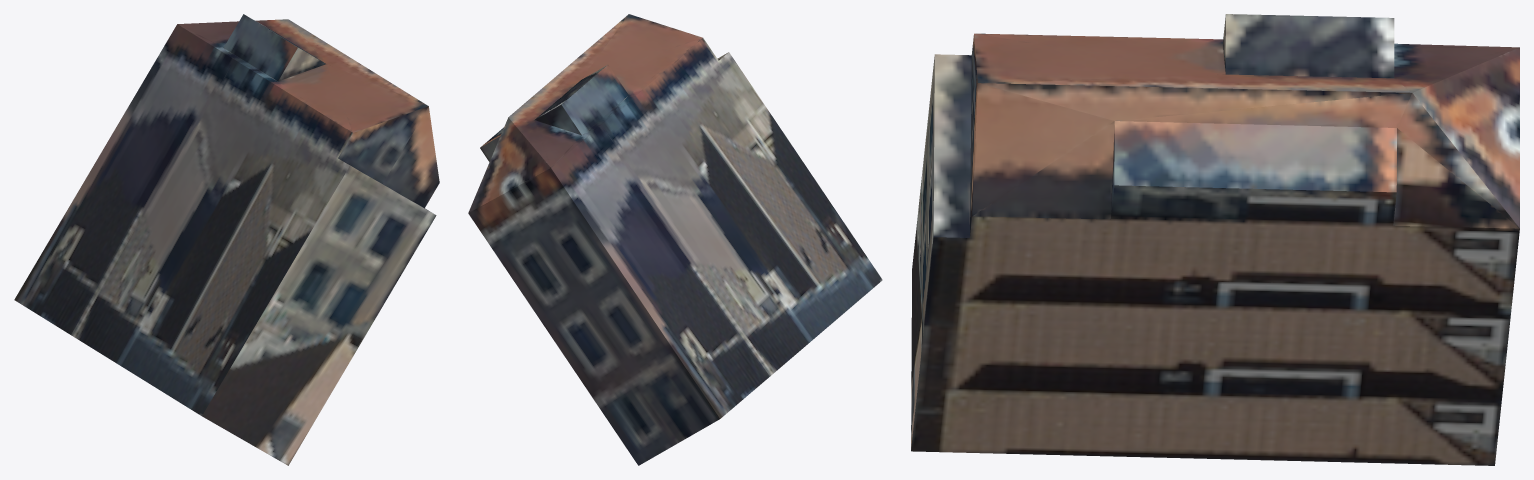
3 views of the same model, side by side, from view 1: azimuth 30°, elevation 25°; view 2: azimuth 150°, elevation 25°; view 3: azimuth 270°, elevation 25° (orthographic). The views are drawn at different scales.
Parts seen in each view (by area): view 1: BAG_0599100000688753 (×7); view 2: BAG_0599100000688753 (×6); view 3: BAG_0599100000688753 (×6).
Boxes of the visible parts, x1,y1,x2,y2 form: BAG_0599100000688753 (×7): (14, 14, 439, 465); BAG_0599100000688753 (×6): (468, 14, 882, 465); BAG_0599100000688753 (×6): (911, 14, 1519, 465).
Size of the model in its own units: 11.64 by 12.93 by 13.14.
Materials: 6 (6 with a texture image).
